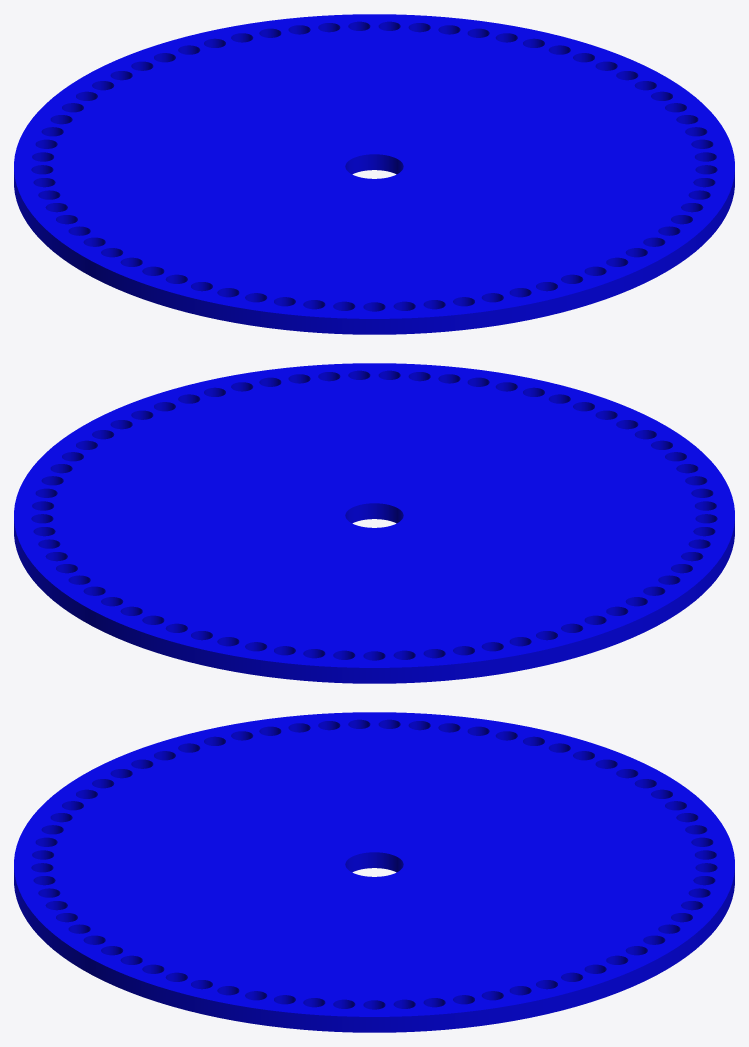
File: wheel_v0.glb
3 renders of one model, top to bottom at view 1: azimuth 30°, elevation 25°; view 2: azimuth 150°, elevation 25°; view 3: azimuth 270°, elevation 25°, orthographic.
Parts seen in each view (by area): view 1: main_wheel; view 2: main_wheel; view 3: main_wheel.
Part boxes in pixels (left/top/right/bottom): main_wheel: left=14, top=14, right=734, bottom=334; main_wheel: left=14, top=363, right=734, bottom=683; main_wheel: left=14, top=712, right=734, bottom=1032.
Size of the model in its own units: 0.124 by 0.003 by 0.124.
